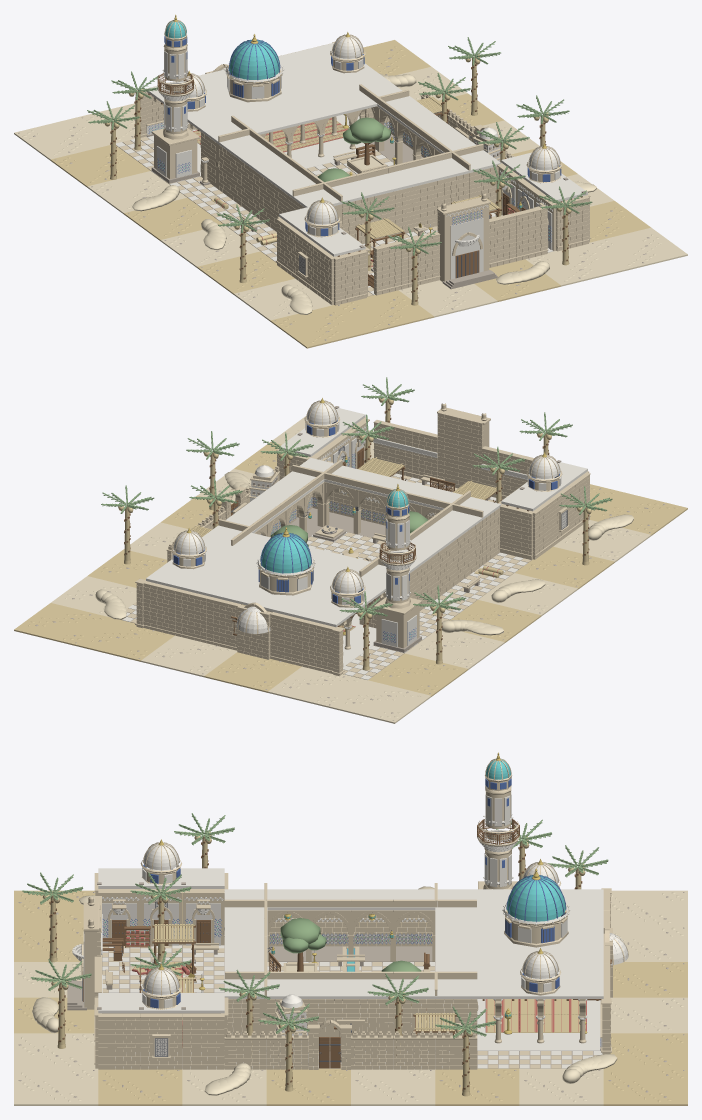
File: mosq-5c9d5866-starter-scene.glb
The picture shows the model from 3 angles, top to bottom: view 1: azimuth 30°, elevation 25°; view 2: azimuth 150°, elevation 25°; view 3: azimuth 270°, elevation 25°; orthographic projection. The views are drawn at different scales.
Visible parts, largest first — view 1: 283-desert-ground-module-dark/0, 291-desert-ground-module/0, 276-desert-ground-module/0, 296-desert-ground-module-dark/0, 227-stepped-entrance-portal/1, 277-desert-ground-module-dark/0, 281-desert-ground-module-dark/0, 279-desert-ground-module-dark/0, 299-desert-ground-module/0, 297-desert-ground-module/0, 278-desert-ground-module/0, 280-desert-ground-module/0 (+77 smaller); view 2: 227-stepped-entrance-portal/1, 276-desert-ground-module/0, 284-desert-ground-module-dark/0, 277-desert-ground-module-dark/0, 292-desert-ground-module/0, 295-desert-ground-module-dark/0, 281-desert-ground-module-dark/0, 294-desert-ground-module/0, 293-desert-ground-module-dark/0, 278-desert-ground-module/0, 283-desert-ground-module-dark/0, 282-desert-ground-module/0 (+69 smaller); view 3: 284-desert-ground-module-dark/0, 291-desert-ground-module/0, 287-desert-ground-module/0, 290-desert-ground-module-dark/0, 286-desert-ground-module-dark/0, 288-desert-ground-module-dark/0, 285-desert-ground-module/0, 294-desert-ground-module/0, 276-desert-ground-module/0, 299-desert-ground-module/0, 295-desert-ground-module-dark/0, 293-desert-ground-module-dark/0 (+91 smaller).
Boxes of the visible parts, box(x1,y1,x2,y2) form: 283-desert-ground-module-dark/0: box(270, 305, 370, 348); 291-desert-ground-module/0: box(589, 227, 687, 270); 276-desert-ground-module/0: box(14, 117, 110, 160); 296-desert-ground-module-dark/0: box(334, 290, 433, 332); 227-stepped-entrance-portal/1: box(437, 193, 490, 281); 277-desert-ground-module-dark/0: box(50, 145, 150, 187); 281-desert-ground-module-dark/0: box(197, 251, 294, 294); 279-desert-ground-module-dark/0: box(124, 197, 222, 240); 299-desert-ground-module/0: box(526, 244, 624, 286); 297-desert-ground-module/0: box(399, 280, 497, 317); 278-desert-ground-module/0: box(87, 171, 186, 214); 280-desert-ground-module/0: box(160, 226, 260, 267); 227-stepped-entrance-portal/1: box(437, 403, 490, 488); 276-desert-ground-module/0: box(331, 680, 431, 723); 284-desert-ground-module-dark/0: box(14, 603, 112, 646); 277-desert-ground-module-dark/0: box(368, 653, 467, 696); 292-desert-ground-module/0: box(268, 666, 367, 708); 295-desert-ground-module-dark/0: box(77, 619, 174, 661); 281-desert-ground-module-dark/0: box(515, 546, 614, 589); 294-desert-ground-module/0: box(141, 635, 237, 677); 293-desert-ground-module-dark/0: box(204, 652, 301, 692); 278-desert-ground-module/0: box(405, 630, 504, 669); 283-desert-ground-module-dark/0: box(590, 492, 687, 535); 282-desert-ground-module/0: box(553, 520, 651, 562); 284-desert-ground-module-dark/0: box(603, 1068, 687, 1105); 291-desert-ground-module/0: box(14, 1068, 98, 1105); 287-desert-ground-module/0: box(351, 1069, 435, 1105); 290-desert-ground-module-dark/0: box(98, 1069, 182, 1105); 286-desert-ground-module-dark/0: box(435, 1068, 519, 1105); 288-desert-ground-module-dark/0: box(266, 1068, 350, 1105); 285-desert-ground-module/0: box(519, 1068, 603, 1105); 294-desert-ground-module/0: box(610, 997, 687, 1033); 276-desert-ground-module/0: box(610, 890, 687, 926); 299-desert-ground-module/0: box(14, 1033, 95, 1068); 295-desert-ground-module-dark/0: box(605, 1033, 687, 1068); 293-desert-ground-module-dark/0: box(613, 962, 687, 997).
Size of the model in its own units: 36.98 by 14.52 by 48.
